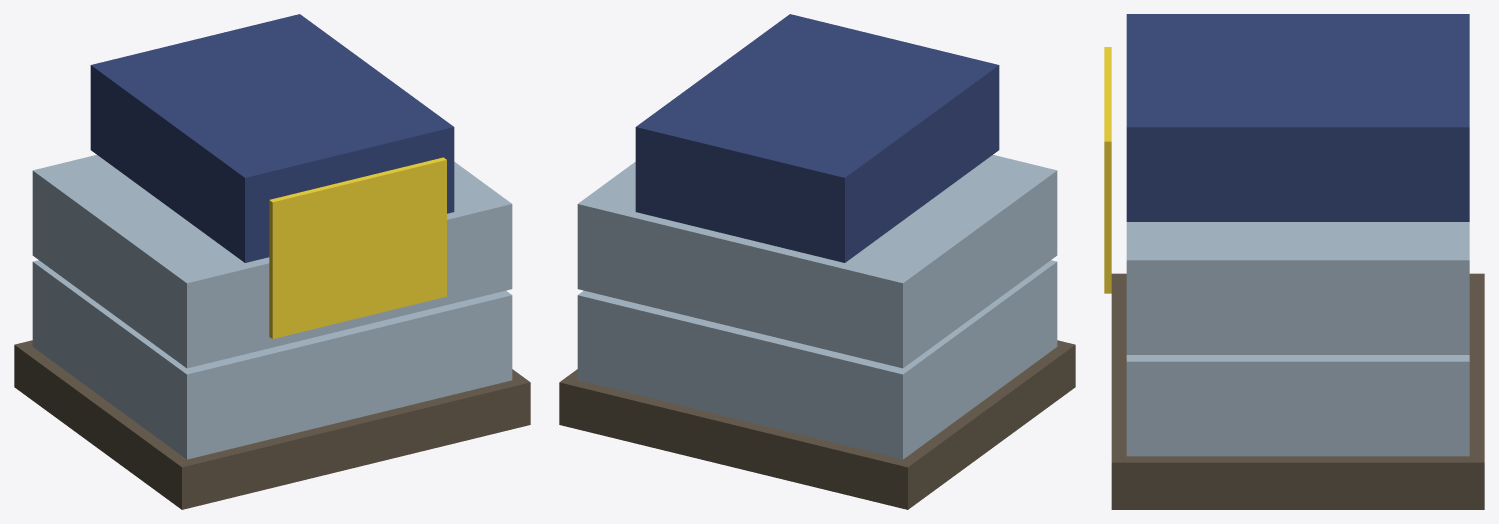
Rendered from site_clutter4.fbx.
3 views of the same model, side by side, from view 1: azimuth 30°, elevation 25°; view 2: azimuth 150°, elevation 25°; view 3: azimuth 270°, elevation 25° (orthographic). The views are drawn at different scales.
Parts seen in each view (by area): view 1: a1019/0/site_clutter4; view 2: a1019/0/site_clutter4; view 3: a1019/0/site_clutter4.
Part boxes in pixels (x1,y1,x2,y2): a1019/0/site_clutter4: (14,14,530,509); a1019/0/site_clutter4: (559,14,1075,509); a1019/0/site_clutter4: (1104,14,1484,509).
Bounding box in the file's own units: 1.2 × 1.02 × 1.02.
